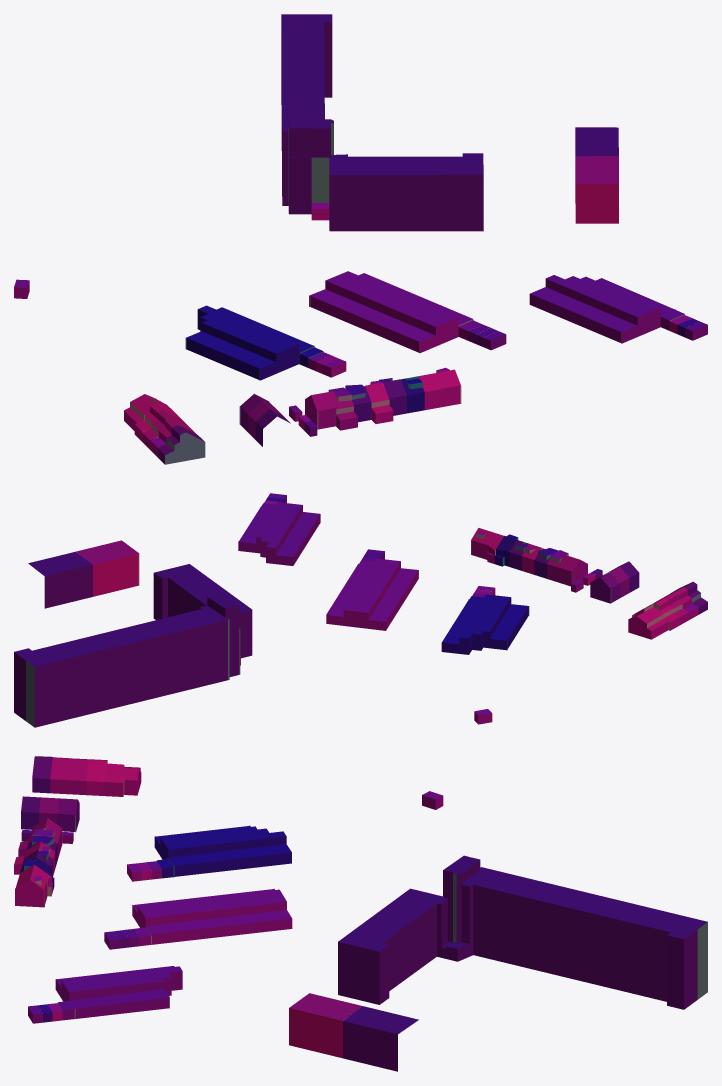
File: buildings_13_9.glb
The picture shows the model from 3 angles, top to bottom: view 1: azimuth 30°, elevation 25°; view 2: azimuth 150°, elevation 25°; view 3: azimuth 270°, elevation 25°; orthographic projection. The views are drawn at different scales.
Visible parts, largest first — view 1: buildings_13_9; view 2: buildings_13_9; view 3: buildings_13_9.
Part boxes in pixels (<box>): buildings_13_9: <box>14,14,707,464</box>; buildings_13_9: <box>14,493,707,727</box>; buildings_13_9: <box>14,756,707,1071</box>.
Size of the model in its own units: 208 by 26.37 by 206.
